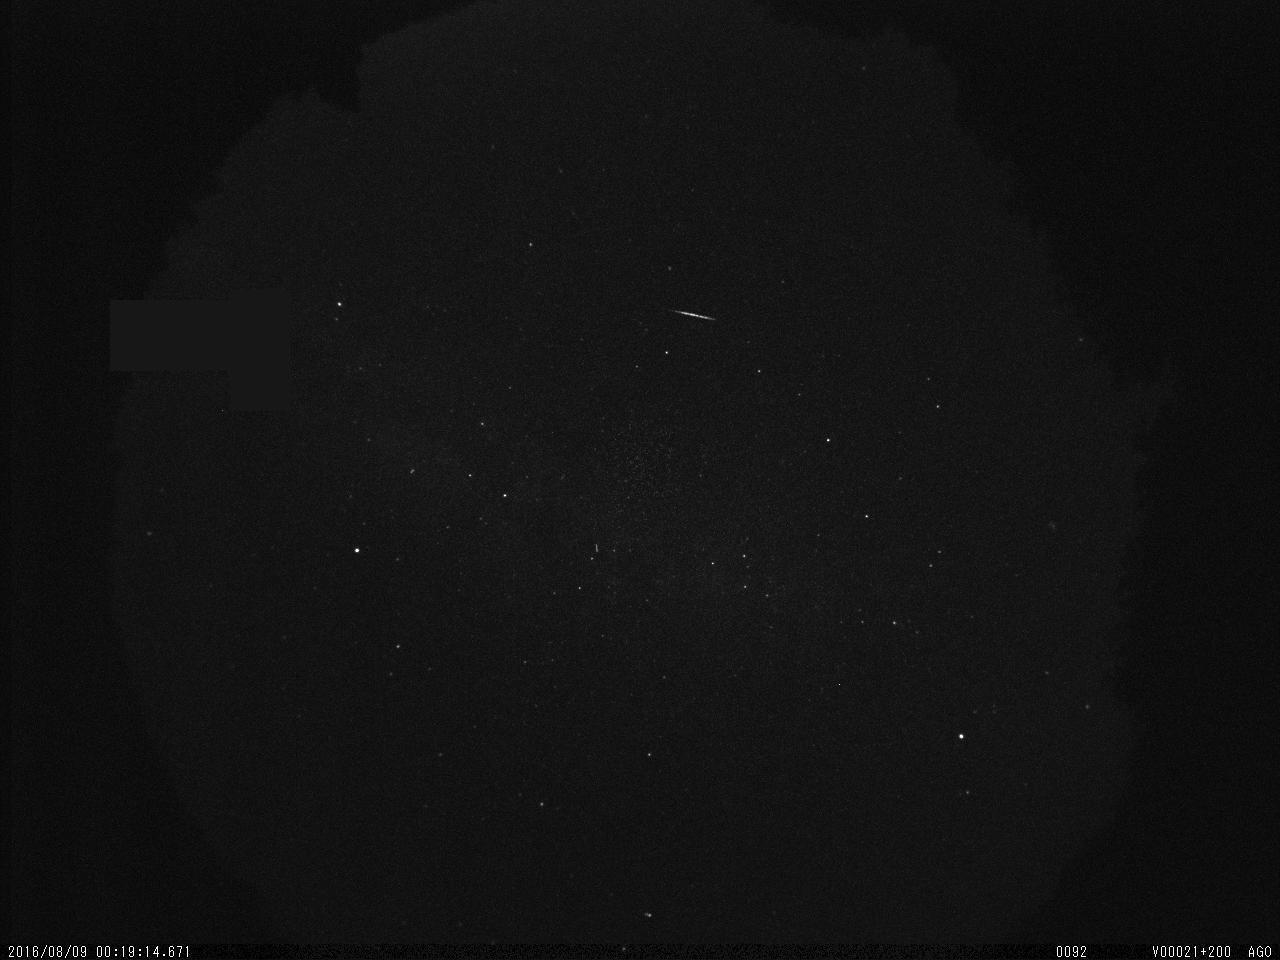meteor: (657, 301, 737, 333)
